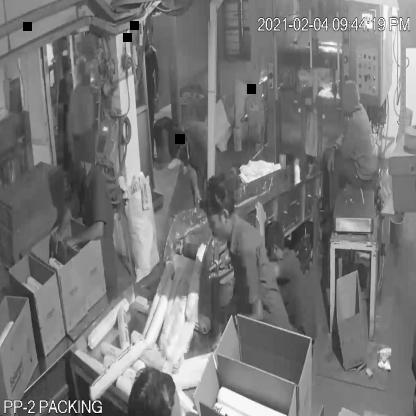no_glove: (60, 218, 108, 256), (178, 152, 205, 214), (44, 198, 76, 248), (252, 196, 270, 244), (320, 144, 344, 178)
